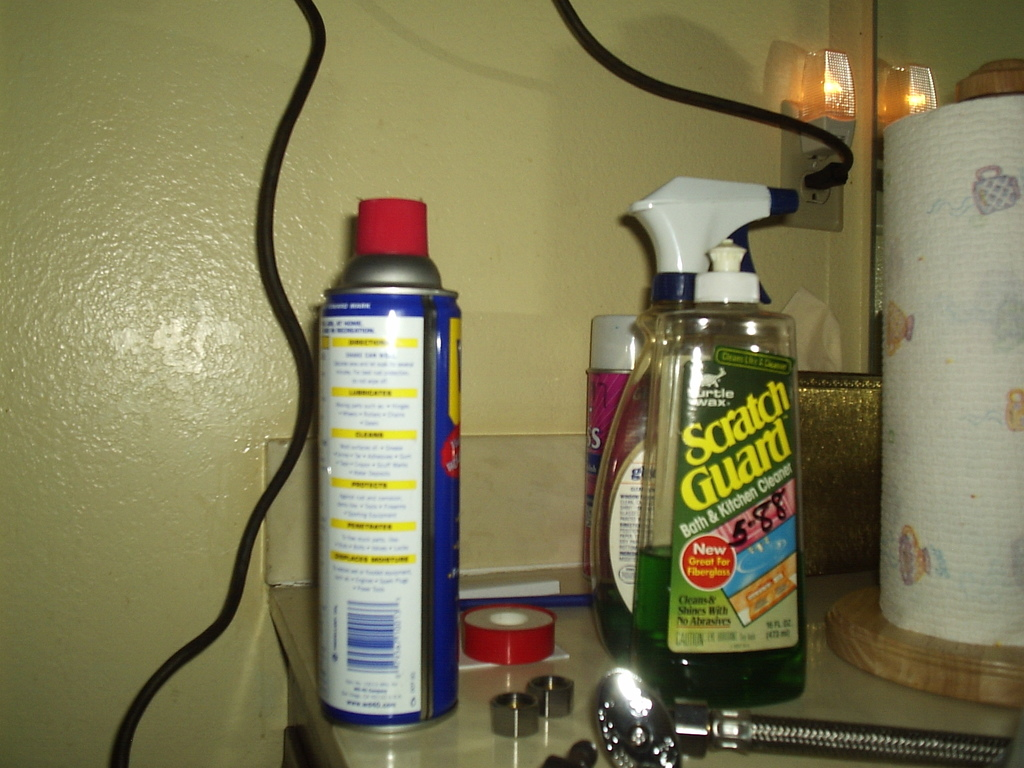can: (592, 178, 803, 664), (634, 234, 810, 709), (315, 195, 461, 734), (582, 317, 653, 578)
